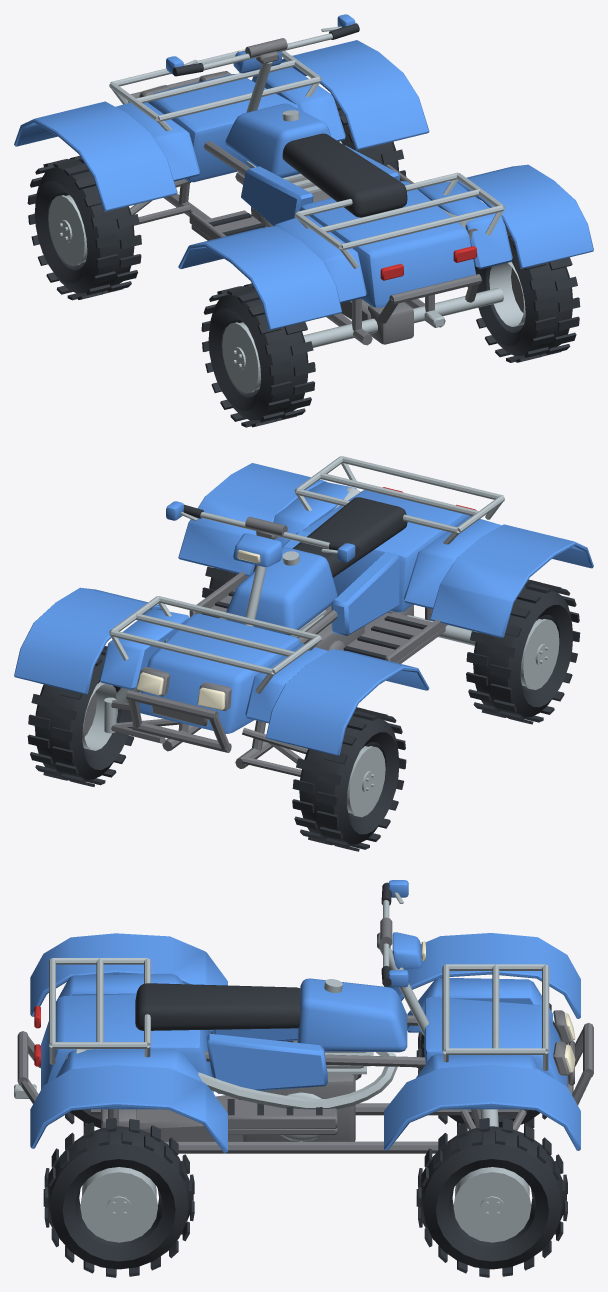
The model's file is TrailFour.fbx.
3 views of the same model, one above another, from view 1: azimuth 30°, elevation 25°; view 2: azimuth 150°, elevation 25°; view 3: azimuth 270°, elevation 25° (orthographic). The views are drawn at different scales.
Visible parts, largest first — view 1: Body__paint, Body__metal, WheelRL__rubber, WheelFL__rubber, Body__engine, WheelRR__rubber, Body__rubber, WheelRL__metal, WheelFL__metal, WheelRR__metal, Front__metal, WheelFR__rubber (+4 smaller); view 2: Body__paint, Body__engine, Body__metal, WheelFL__rubber, WheelRL__rubber, WheelFR__rubber, Body__rubber, WheelRL__metal, WheelFL__metal, Front__paint, Front__metal, WheelFR__metal (+3 smaller); view 3: Body__paint, Body__engine, WheelFR__rubber, WheelRR__rubber, Body__metal, Body__rubber, WheelFR__metal, WheelRR__metal, Front__paint, Front__metal, WheelFL__rubber.
Boxes of the visible parts, x1,y1,x2,y2 form: Body__paint: (14,40,593,330); Body__metal: (109,51,504,347); WheelRL__rubber: (201,283,315,427); WheelFL__rubber: (27,156,141,300); Body__engine: (128,71,481,345); WheelRR__rubber: (467,226,580,362); Body__rubber: (208,133,407,235); WheelRL__metal: (222,322,261,393); WheelFL__metal: (48,195,87,266); WheelRR__metal: (489,261,525,326); Front__metal: (184,26,341,112); WheelFR__rubber: (334,99,406,176); Body__paint: (14,463,593,755); Body__engine: (111,491,447,776); Body__metal: (104,456,504,733); WheelFL__rubber: (292,707,406,851); WheelRL__rubber: (466,579,580,724); WheelFR__rubber: (27,646,133,786); Body__rubber: (201,497,427,659); WheelRL__metal: (520,619,559,689); WheelFL__metal: (346,746,385,817); Front__paint: (166,501,355,567); Front__metal: (180,511,337,626); WheelFR__metal: (82,681,118,750); Body__paint: (30,933,580,1153); Body__engine: (17,1010,593,1153); WheelFR__rubber: (416,1118,567,1277); WheelRR__rubber: (43,1118,194,1277); Body__metal: (14,958,549,1141); Body__rubber: (135,983,322,1115); WheelFR__metal: (453,1167,531,1242); WheelRR__metal: (80,1167,157,1242); Front__paint: (388,880,422,987); Front__metal: (379,892,428,1035); WheelFL__rubber: (416,1003,567,1128).
Bounding box in the file's own units: 1.78 × 1.32 × 2.56.
